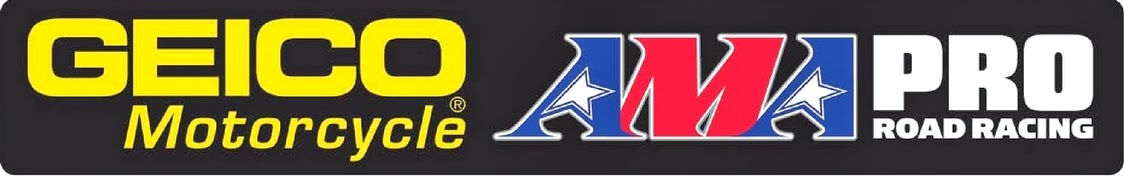geico: (23, 10, 484, 105)
